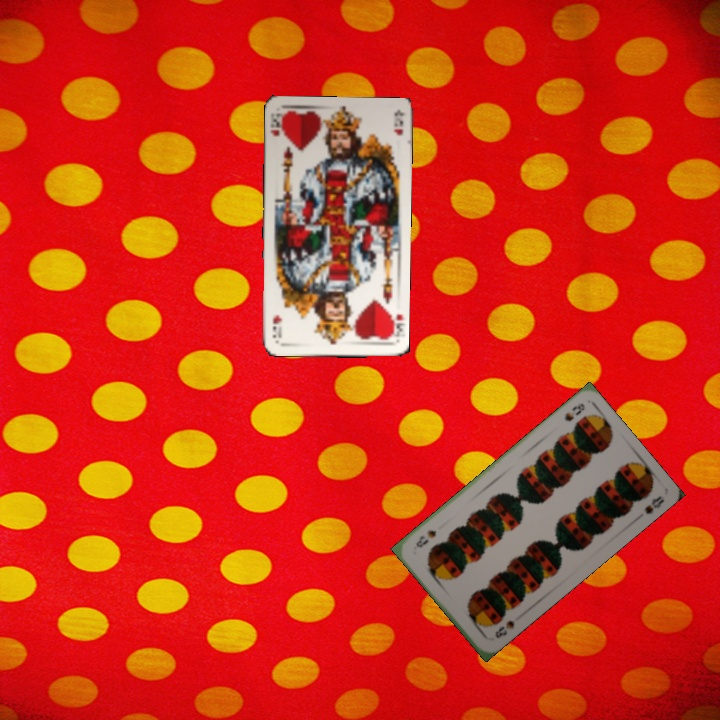HK: (385, 306, 405, 341), (267, 111, 287, 139)
S8: (560, 399, 587, 424), (491, 616, 517, 641)
